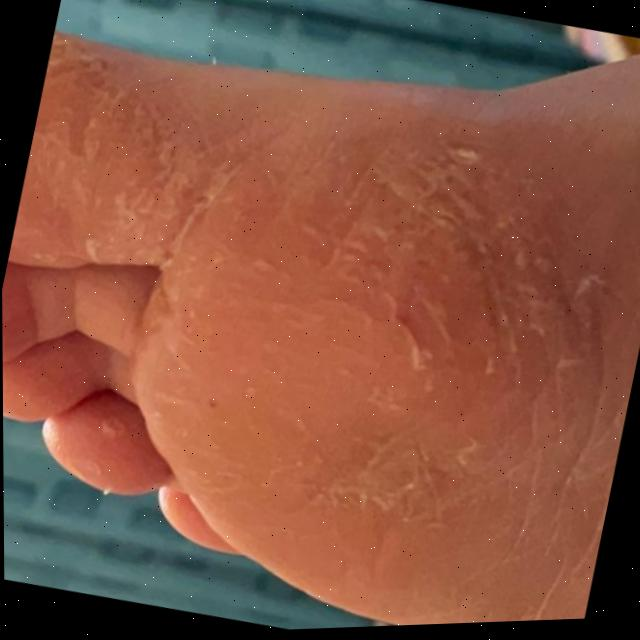Eczema: (0, 32, 638, 600)
